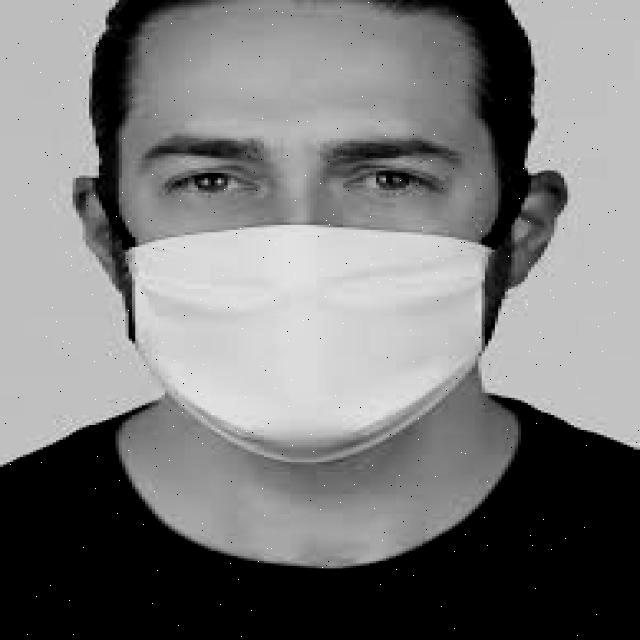fake: (76, 208, 540, 474)
real: (120, 5, 502, 477)
